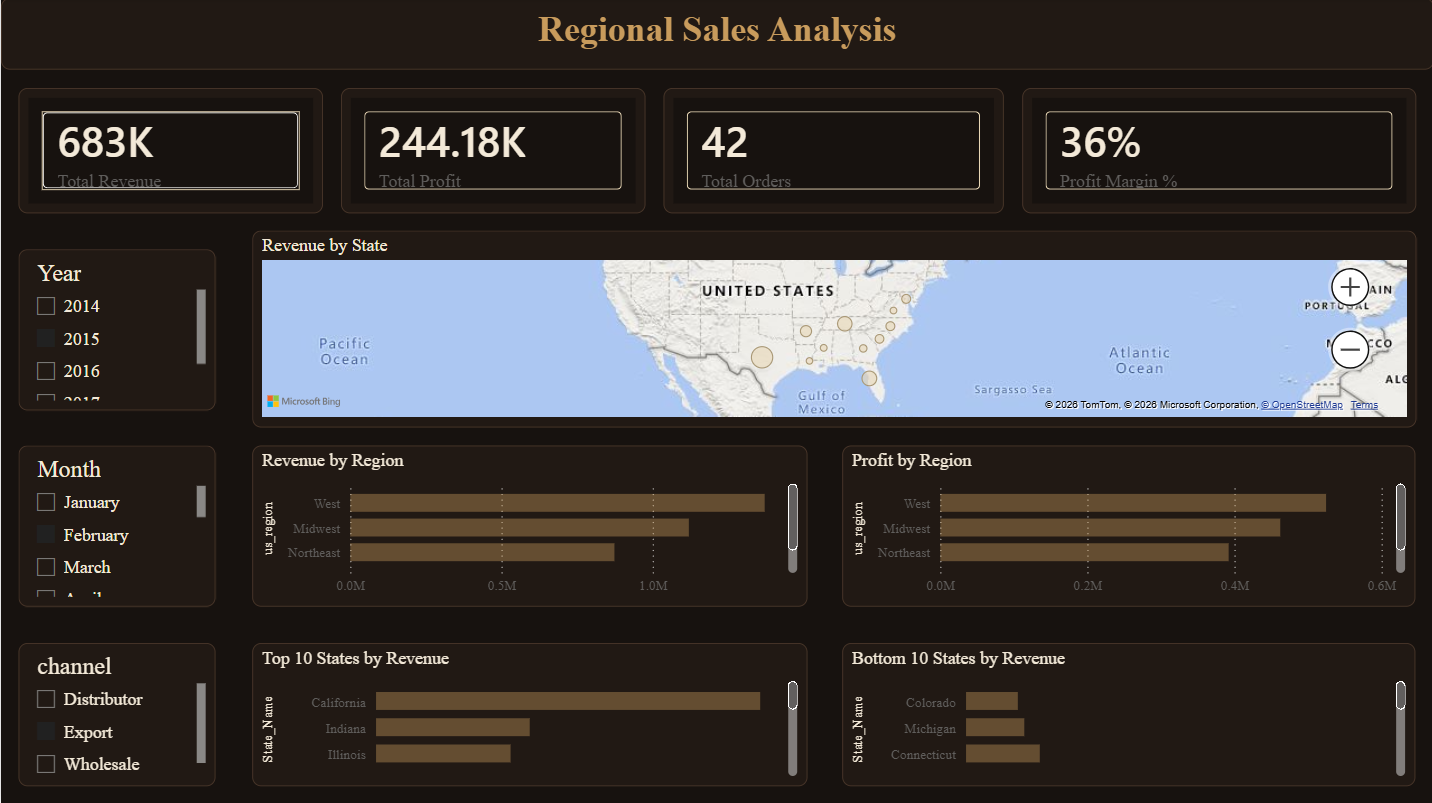

The page's visual inventory and layout, read from the dashboard file:
{"tool":"powerbi","page":{"name":"Regional Sales Analysis","canvas":[1280,720],"ordinal":1},"visuals":[{"type":"textbox","box":[0,0,1280,64],"z":0},{"type":"cardVisual","fields":{"Data":["cleaned_sales_data.Total Revenue"]},"box":[16,80,272,112],"z":1000},{"type":"cardVisual","fields":{"Data":["cleaned_sales_data.Total Profit"]},"box":[304,80,272,112],"z":2000},{"type":"cardVisual","fields":{"Data":["cleaned_sales_data.Total Orders"]},"box":[592,80,304,112],"z":3000},{"type":"cardVisual","fields":{"Data":["cleaned_sales_data.Profit Margin %"]},"box":[912,80,352,112],"z":4000},{"type":"map","title":"Revenue by State","fields":{"Category":["cleaned_sales_data.State_Name"],"Size":["cleaned_sales_data.Total Revenue"]},"box":[224,208,1040,176],"z":5000},{"type":"clusteredBarChart","title":"Revenue by Region","fields":{"Category":["cleaned_sales_data.us_region"],"Y":["cleaned_sales_data.Total Revenue"]},"box":[224,400,496,144],"z":6000},{"type":"clusteredBarChart","title":"Profit by Region","fields":{"Category":["cleaned_sales_data.us_region"],"Y":["cleaned_sales_data.Total Profit"]},"box":[752,400,512,144],"z":7000},{"type":"barChart","title":"Top 10 States by Revenue","fields":{"Category":["cleaned_sales_data.State_Name"],"Y":["cleaned_sales_data.Total Revenue"]},"box":[224,576,496,128],"z":8000},{"type":"barChart","title":"Bottom 10 States by Revenue","fields":{"Category":["cleaned_sales_data.State_Name"],"Y":["cleaned_sales_data.Total Revenue"]},"box":[752,576,512,128],"z":9000},{"type":"slicer","fields":{"Values":["cleaned_sales_data.order_date.Variation.Date Hierarchy.Year"]},"box":[16,224,176,144],"z":10000},{"type":"slicer","fields":{"Values":["cleaned_sales_data.order_date.Variation.Date Hierarchy.Month"]},"box":[16,400,176,144],"z":11000},{"type":"slicer","fields":{"Values":["cleaned_sales_data.channel"]},"box":[16,576,176,128],"z":12000}]}

Visuals, with their boxes in screenshot pixels (x1, y1, x2, y2), scaled from the page's 1280x720 canvas onto the 1432x803 screenshot:
textbox: locate(0, 0, 1431, 71)
cardVisual - cleaned_sales_data.Total Revenue: locate(18, 89, 322, 214)
cardVisual - cleaned_sales_data.Total Profit: locate(340, 89, 644, 214)
cardVisual - cleaned_sales_data.Total Orders: locate(662, 89, 1002, 214)
cardVisual - cleaned_sales_data.Profit Margin %: locate(1020, 89, 1414, 214)
"Revenue by State" map: locate(251, 232, 1414, 428)
"Revenue by Region" clusteredBarChart: locate(251, 446, 805, 607)
"Profit by Region" clusteredBarChart: locate(841, 446, 1414, 607)
"Top 10 States by Revenue" barChart: locate(251, 642, 805, 785)
"Bottom 10 States by Revenue" barChart: locate(841, 642, 1414, 785)
slicer - cleaned_sales_data.order_date.Variation.Date Hierarchy.Year: locate(18, 250, 215, 410)
slicer - cleaned_sales_data.order_date.Variation.Date Hierarchy.Month: locate(18, 446, 215, 607)
slicer - cleaned_sales_data.channel: locate(18, 642, 215, 785)
